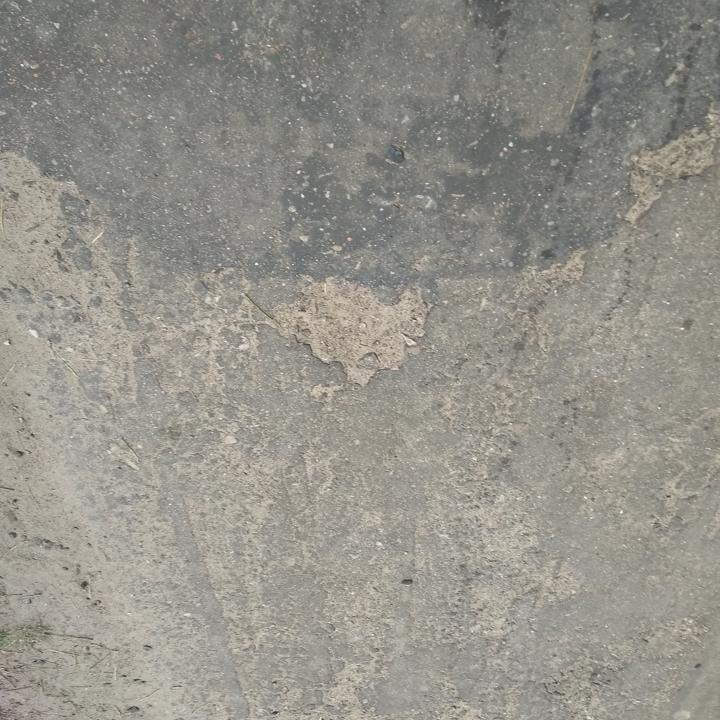pothole: (289, 276, 435, 393), (636, 130, 719, 179)
